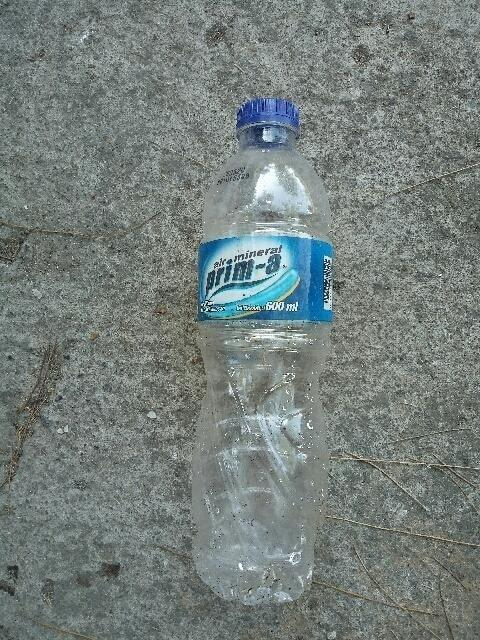bottle-plastic: (184, 90, 343, 613)
